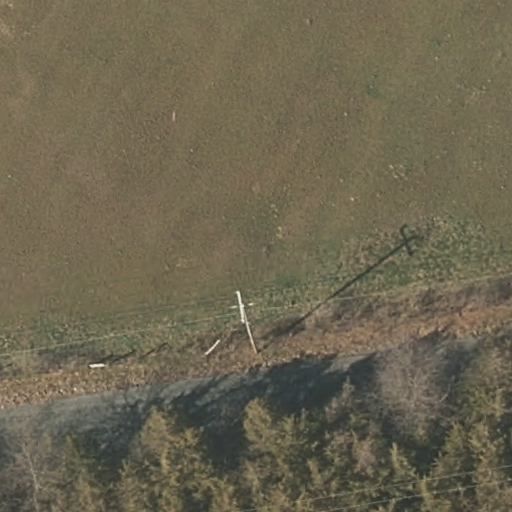DT: (234, 289, 249, 323)
